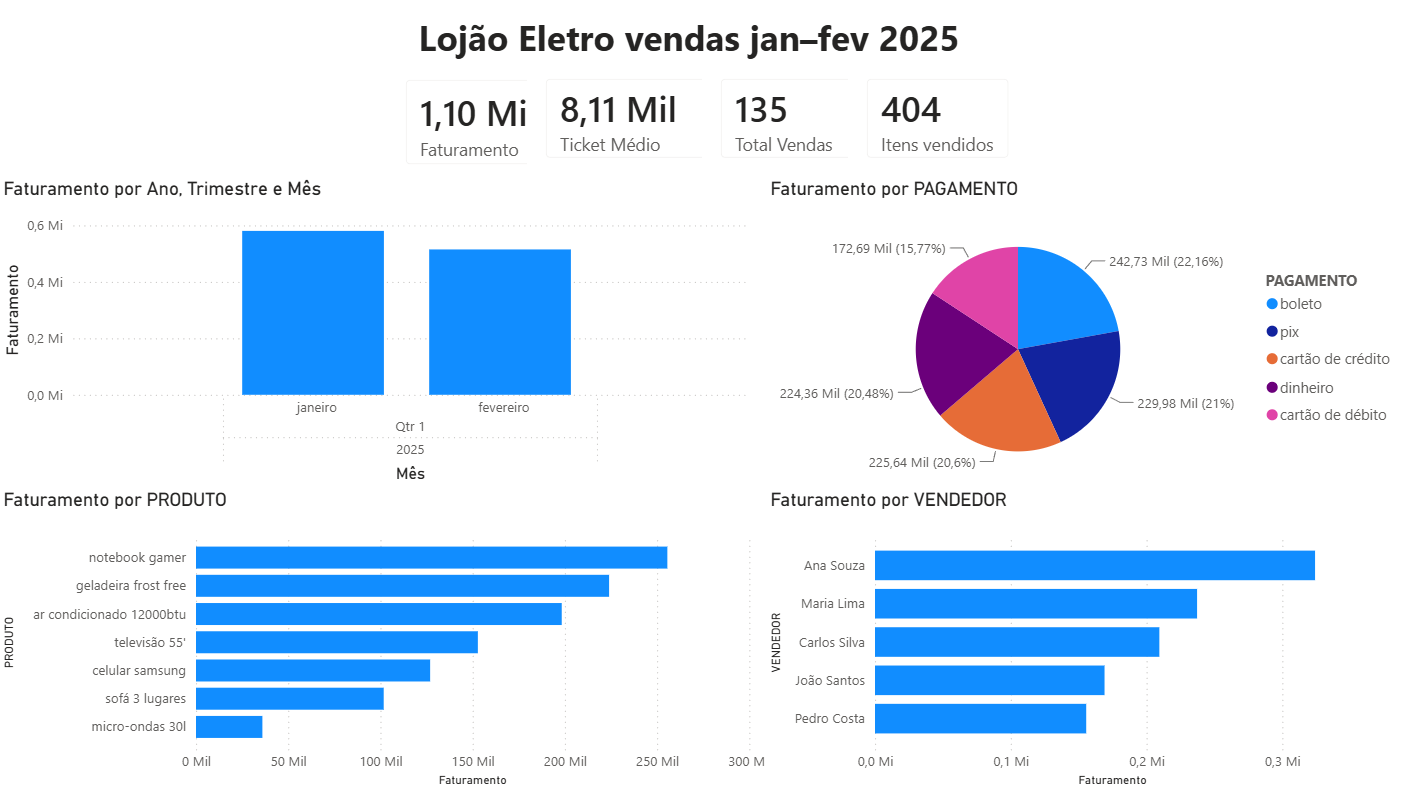

Layout of this report page (visuals, bound fields, positions):
{"tool":"powerbi","page":{"name":"Página 1","canvas":[1280,720],"ordinal":0},"visuals":[{"type":"textbox","box":[377,6.3,525.7,63.6],"z":0},{"type":"cardVisual","fields":{"Data":["Sheet1.Faturamento"]},"box":[354,55,156,111],"z":1000},{"type":"cardVisual","fields":{"Data":["Sheet1.Ticket Médio"]},"box":[480.9,54.6,205.1,106.6],"z":2000},{"type":"cardVisual","fields":{"Data":["CountNonNull(Sheet1.ID_VENDA)"]},"box":[640.3,54.6,154,106],"z":3000},{"type":"clusteredBarChart","fields":{"Category":["Sheet1.PRODUTO"],"Y":["Sheet1.Faturamento"]},"box":[0,444,708,276],"z":4000},{"type":"cardVisual","fields":{"Data":["Sum(Sheet1.QUANTIDADE)"]},"box":[772.8,54.6,163,106],"z":5000},{"type":"columnChart","fields":{"Y":["Sheet1.Faturamento"],"Category":["Sheet1.DATA_VENDA.Variation.Hierarquia de datas.Ano","Sheet1.DATA_VENDA.Variation.Hierarquia de datas.Trimestre","Sheet1.DATA_VENDA.Variation.Hierarquia de datas.Mês","Sheet1.DATA_VENDA.Variation.Hierarquia de datas.Dia"]},"box":[0,161.2,686,283],"z":6000},{"type":"pieChart","fields":{"Category":["Sheet1.PAGAMENTO"],"Y":["Sheet1.Faturamento"]},"box":[697,161,583,283],"z":7000},{"type":"barChart","fields":{"Category":["Sheet1.VENDEDOR"],"Y":["Sheet1.Faturamento"]},"box":[697,444,554,276],"z":8000}]}

Visuals, with their boxes in screenshot pixels (x1, y1, x2, y2), scaled from the page's 1280x720 canvas onto the 1406x791 screenshot:
textbox: [414, 7, 992, 77]
cardVisual - Sheet1.Faturamento: [389, 60, 560, 182]
cardVisual - Sheet1.Ticket Médio: [528, 60, 754, 177]
cardVisual - CountNonNull(Sheet1.ID_VENDA): [703, 60, 872, 176]
clusteredBarChart - Sheet1.PRODUTO x Sheet1.Faturamento: [0, 488, 778, 790]
cardVisual - Sum(Sheet1.QUANTIDADE): [849, 60, 1028, 176]
columnChart - Sheet1.Faturamento x Sheet1.DATA_VENDA.Variation.Hierarquia de datas.Ano: [0, 177, 754, 488]
pieChart - Sheet1.PAGAMENTO x Sheet1.Faturamento: [766, 177, 1405, 488]
barChart - Sheet1.VENDEDOR x Sheet1.Faturamento: [766, 488, 1374, 790]
